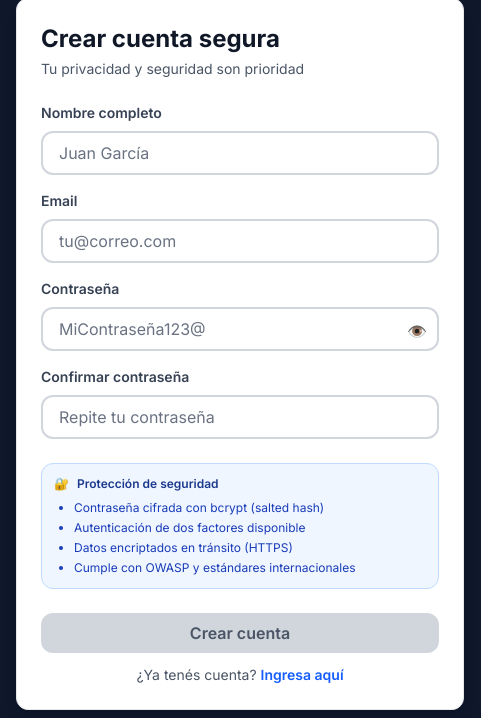
SecureSignupForm › Form validation › shows error for mismatched passwords
The image size is (481, 718).
Type "SecurePass123@" into the password field with placeholder "MiContraseña123@" at [240, 329], box x1=41 y1=307 x2=439 y2=351
(page scrolled)
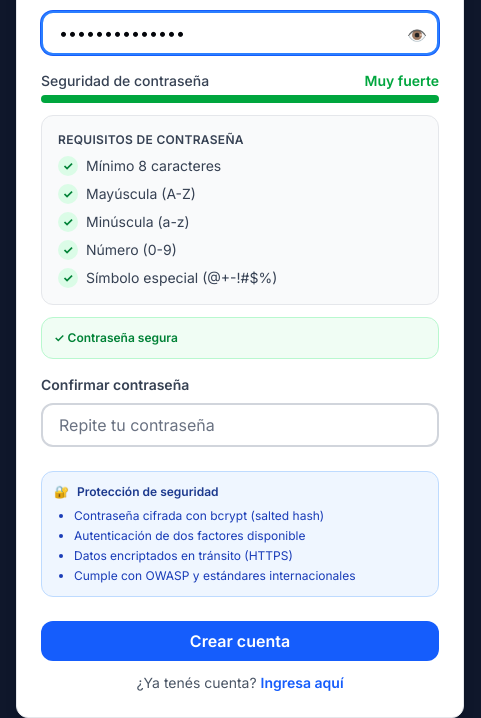
Type "DifferentPass123@" into the password field with placeholder "Repite tu contraseña" at [240, 425], box x1=41 y1=403 x2=439 y2=447
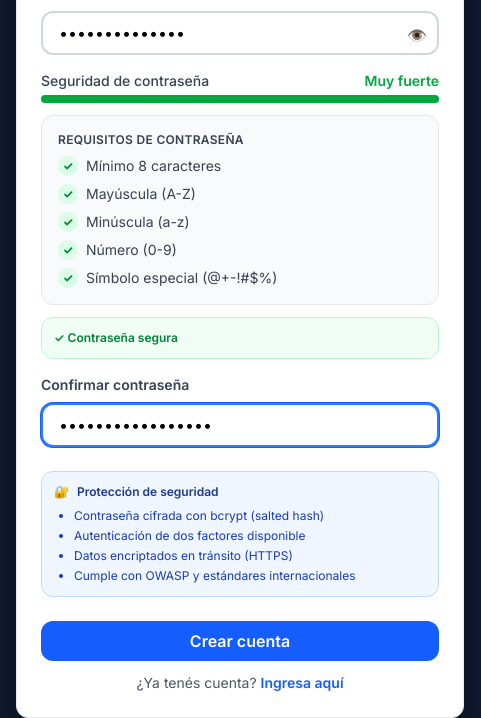
Click the button "Crear cuenta" at [240, 641], box x1=41 y1=621 x2=439 y2=661
(page scrolled)
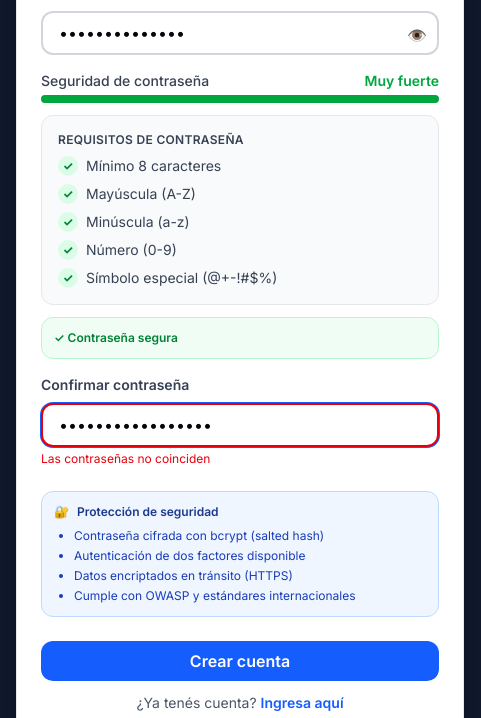
Now the text "Las contraseñas no coinciden" is shown, box x1=41 y1=451 x2=210 y2=466
